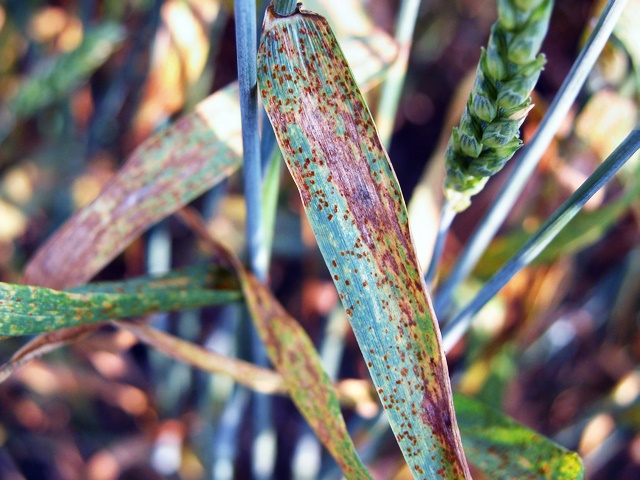Leaf Rust: (270, 55, 450, 440)
